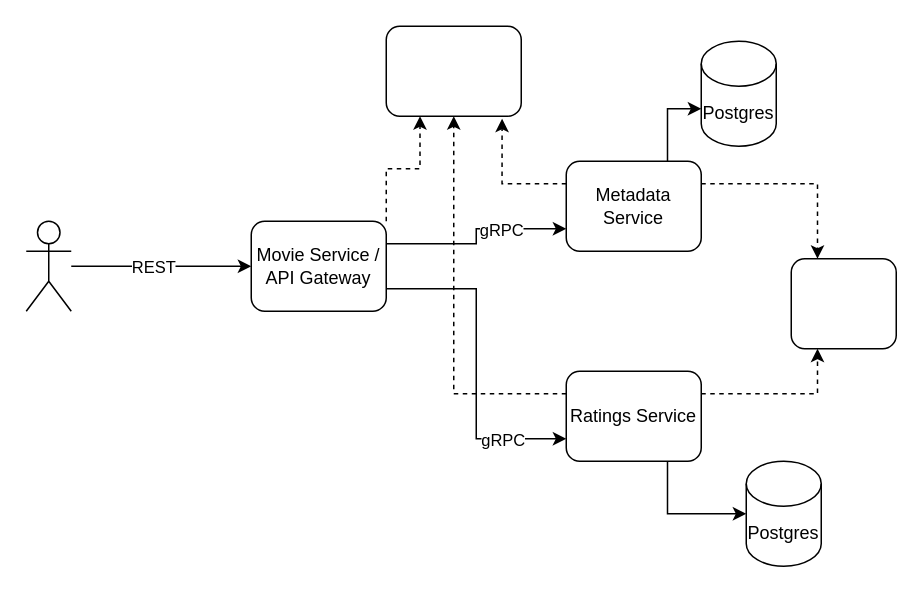
This 923x593 diagram has some shape labels left out. Each missing label, with the box of its shape:
Client: (25, 220, 71, 311)
Kafka: (790, 257, 896, 349)
Serivce Discovery / Consul: (385, 25, 521, 116)
